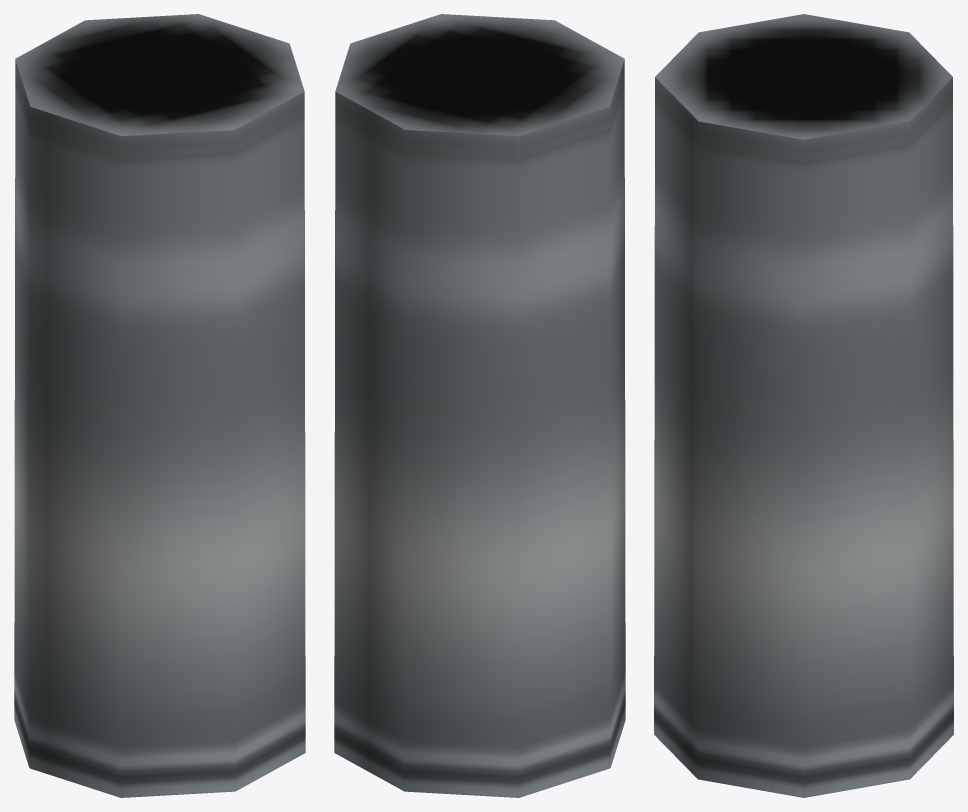
File: pistolCartridge.FBX
3 views of the same model, side by side, from view 1: azimuth 30°, elevation 25°; view 2: azimuth 150°, elevation 25°; view 3: azimuth 270°, elevation 25° (orthographic).
Parts seen in each view (by area): view 1: cartridge; view 2: cartridge; view 3: cartridge.
Boxes of the visible parts, x1,y1,x2,y2 form: cartridge: (14, 14, 305, 797); cartridge: (334, 14, 625, 797); cartridge: (654, 14, 953, 797).
Size of the model in its own units: 3.23 by 7.81 by 3.23.
